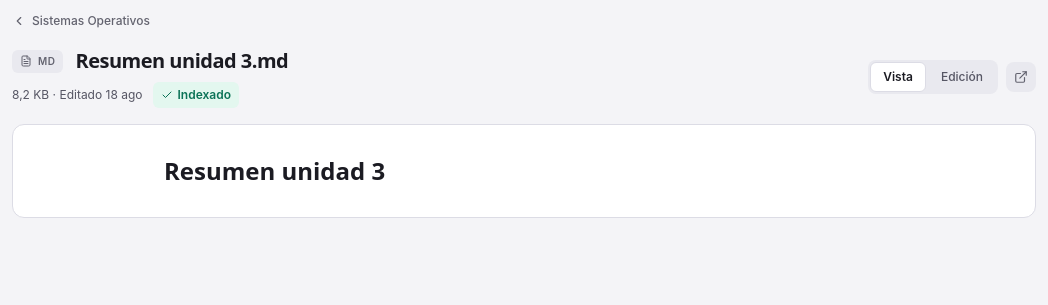
Test: AttachmentViewerContainer — edición › Cancelar discards the draft and returns to Vista — re-entering re-seeds from the saved content
expect the heading "Resumen unidad 3" is shown: met, box [164,154,385,187]
Click the button "Edición". click: (962, 77)
box: [928,62,996,92]
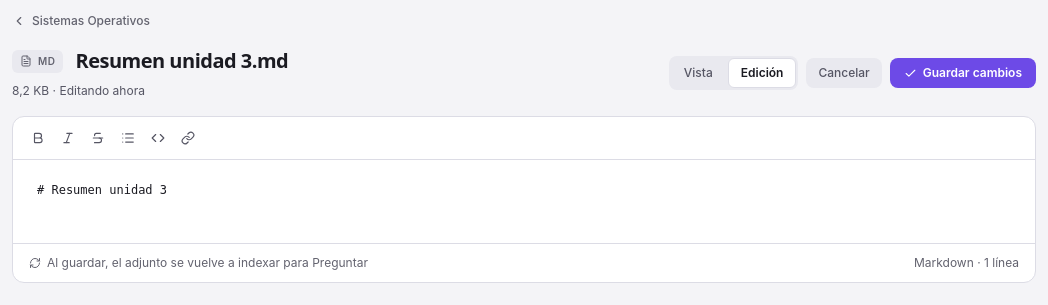
Replace the text in the text box named "Editor de markdown" with "# Descartado". click: (524, 202)
box: [37,180,1011,223]
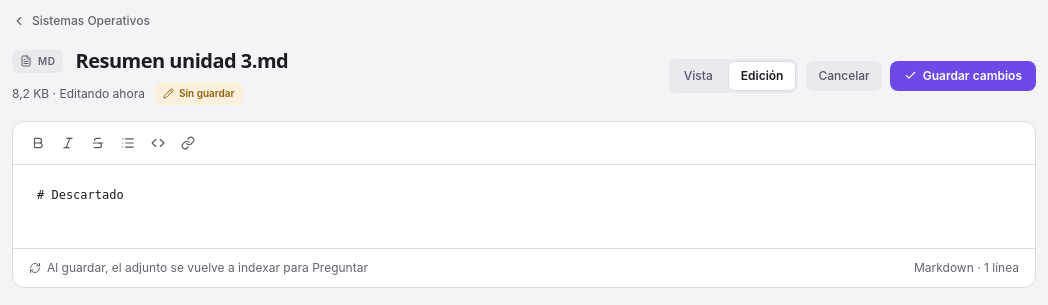
Click the button "Cancelar". click: (844, 76)
box: [806,60,882,90]
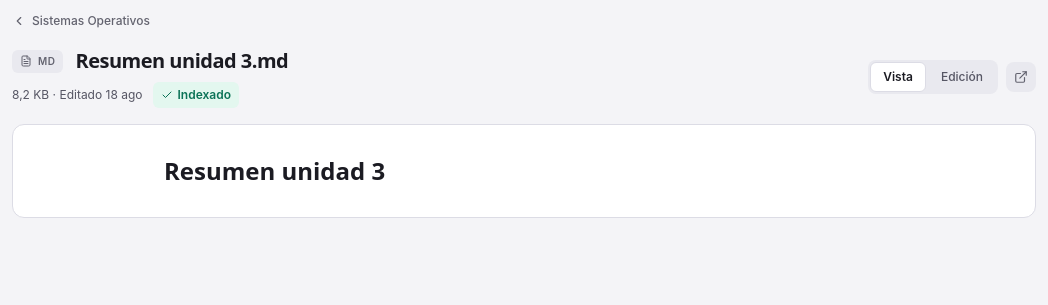
Click the button "Edición". click: (962, 77)
box: [928,62,996,92]
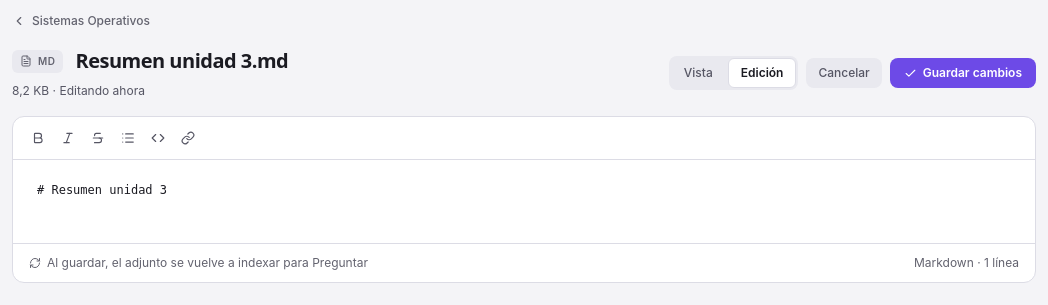
expect the text box named "Editor de markdown" holds "# Resumen unidad 3": met, box [37,180,1011,223]
